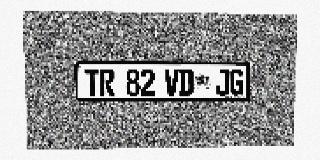2: (140, 69, 154, 96)
8: (126, 69, 140, 96)
D: (179, 69, 193, 95)
G: (230, 69, 244, 95)
J: (215, 69, 230, 95)
R: (100, 69, 114, 96)
T: (85, 69, 99, 96)
V: (165, 69, 179, 96)
